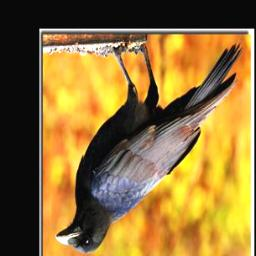Crow: (55, 44, 243, 256)
